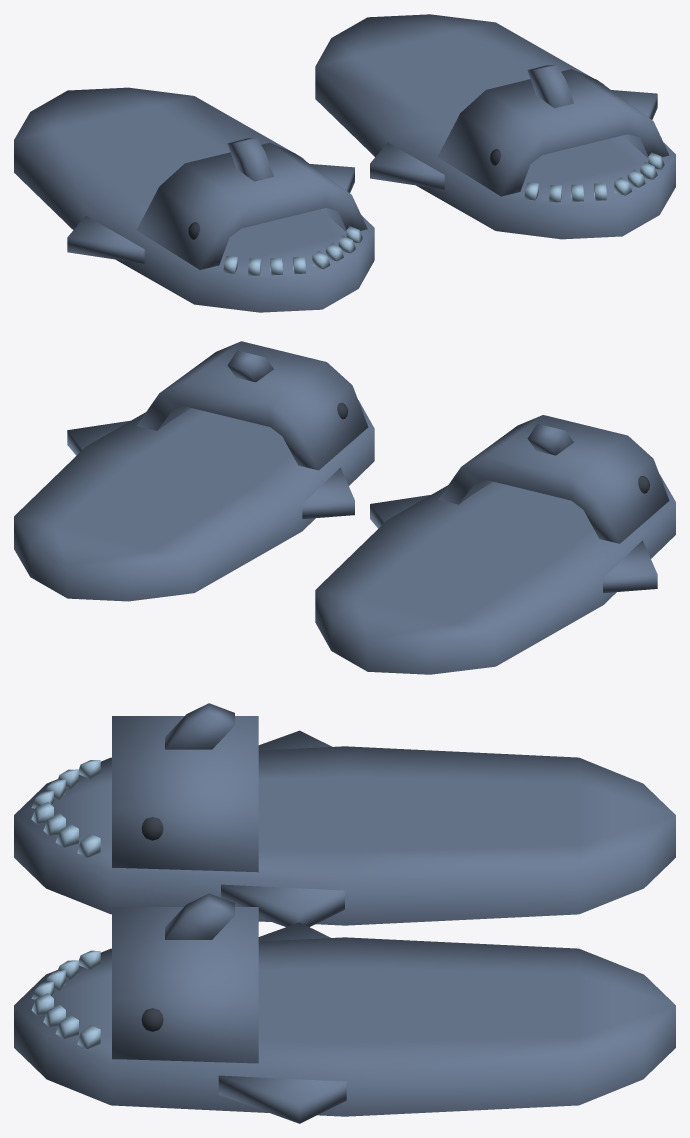
Rendered from PantufaTubarao.fbx.
3 views of the same model, one above another, from view 1: azimuth 30°, elevation 25°; view 2: azimuth 150°, elevation 25°; view 3: azimuth 270°, elevation 25° (orthographic). The views are drawn at different scales.
Parts seen in each view (by area): view 1: SharkFloppersRight, SharkFloppersLeft; view 2: SharkFloppersRight, SharkFloppersLeft; view 3: SharkFloppersRight, SharkFloppersLeft.
Part boxes in pixels (left/top/right/bottom): SharkFloppersRight: left=315, top=14, right=675, bottom=239; SharkFloppersLeft: left=14, top=87, right=374, bottom=312; SharkFloppersRight: left=14, top=341, right=374, bottom=601; SharkFloppersLeft: left=315, top=415, right=675, bottom=674; SharkFloppersRight: left=14, top=893, right=675, bottom=1123; SharkFloppersLeft: left=14, top=703, right=675, bottom=926.
Bounding box in the file's own units: 23.5 × 4.34 × 17.57.
